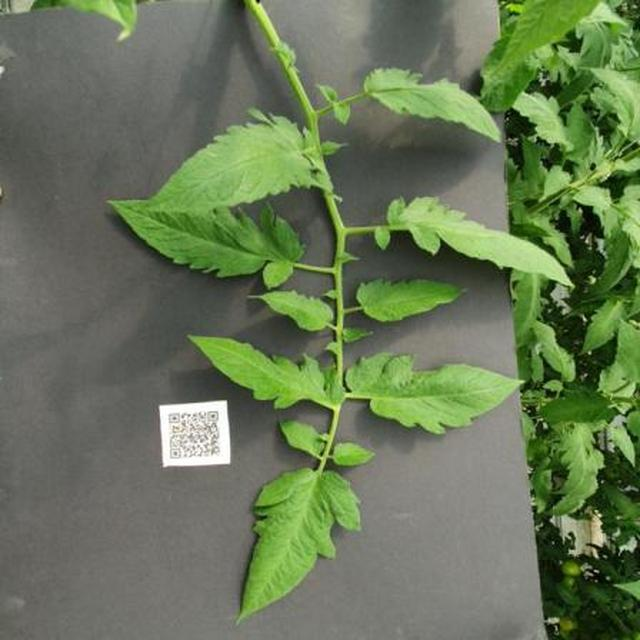Healthy Leaf: (128, 58, 640, 640)
